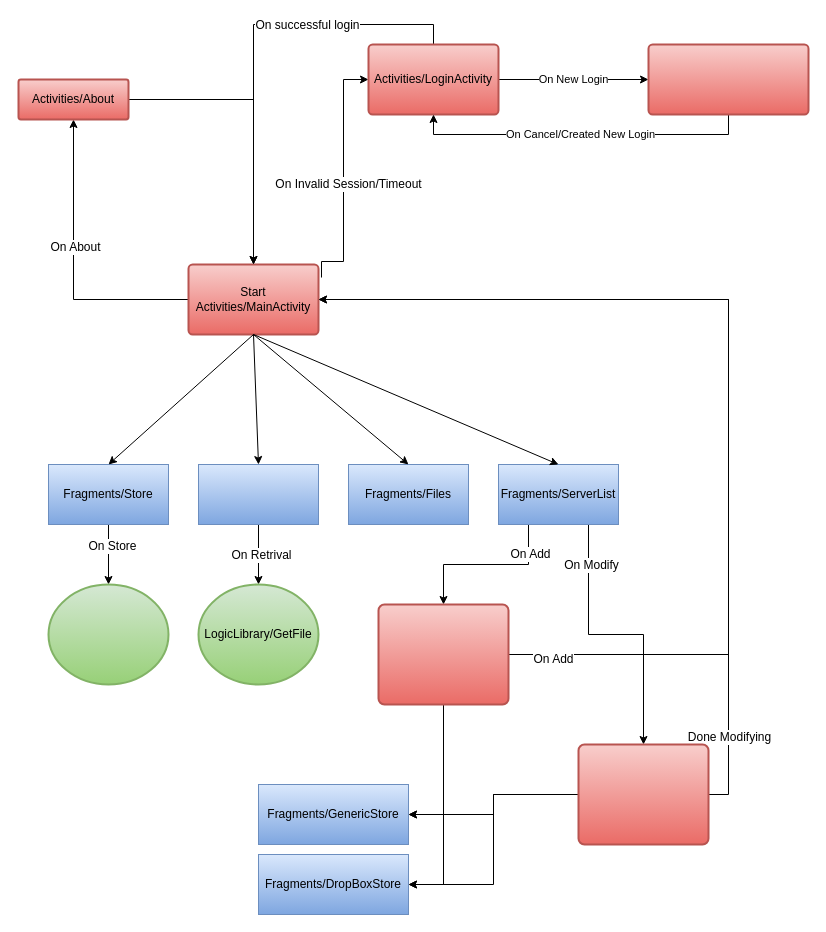
The diagram is 826 pixels wide and 932 high, and some of its shapes have lost their labels. The box of each missing label's shape, as (x1, y1, x2, y2) in pixels:
Activities/AddServer: (377, 603, 509, 705)
Activities/CreatePassword: (647, 43, 809, 115)
Activities/ModifyServer: (577, 743, 709, 845)
Fragments/Retrieve: (198, 464, 318, 524)
LogicLibrary/StoreFile: (47, 583, 169, 685)
